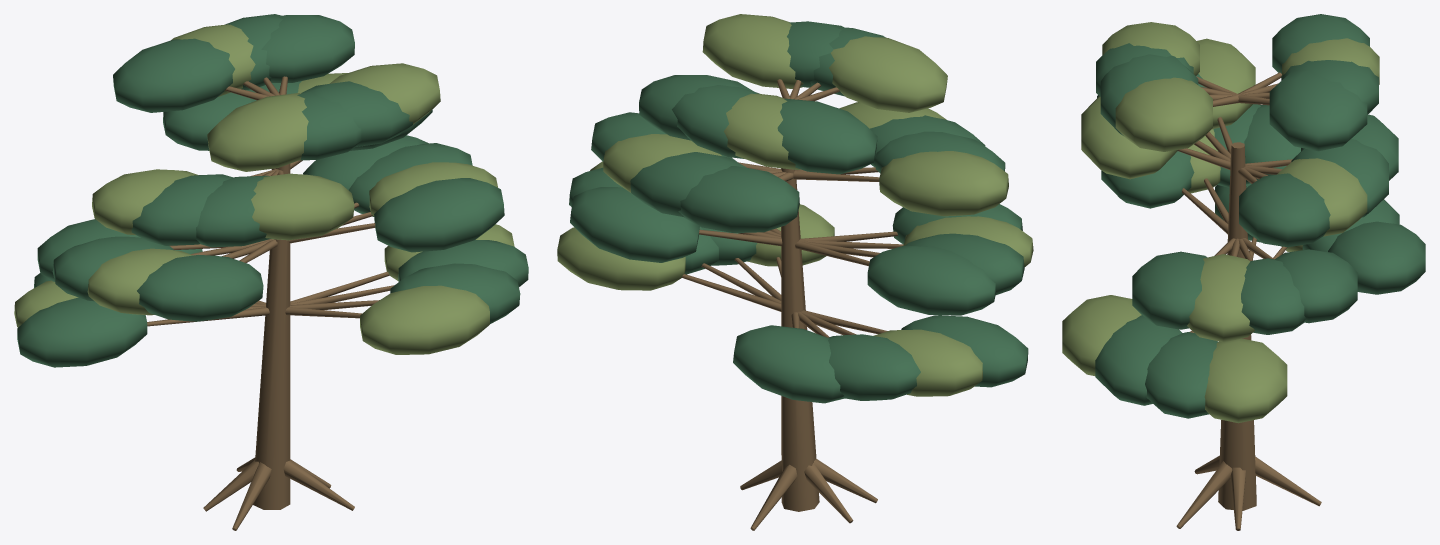
File: tree-almond.glb
3 views of the same model, side by side, from view 1: azimuth 30°, elevation 25°; view 2: azimuth 150°, elevation 25°; view 3: azimuth 270°, elevation 25° (orthographic). The views are drawn at different scales.
Visible parts, largest first — view 1: Trunk, Canopy_29, Canopy_24, Canopy_7, Canopy_4, Canopy_1, Canopy_27, Canopy_6, Canopy_31, Canopy_22, Canopy_14, Canopy_9 (+20 smaller); view 2: Canopy_25, Canopy_30, Canopy_27, Canopy_5, Canopy_28, Canopy_2, Canopy_7, Trunk, Canopy_3, Canopy_20, Canopy_0, Canopy_12 (+26 smaller); view 3: Canopy_31, Canopy_3, Canopy_0, Canopy_26, Canopy_28, Canopy_8, Canopy_29, Canopy_16, Canopy_21, Canopy_5, Trunk, Canopy_13 (+20 smaller).
Boxes of the visible parts, box(x1,y1,x2,y2) form: Trunk: box(253, 164, 290, 509); Canopy_29: box(374, 178, 504, 252); Canopy_24: box(360, 285, 489, 354); Canopy_7: box(113, 38, 234, 112); Canopy_4: box(17, 297, 147, 367); Canopy_1: box(137, 255, 263, 321); Canopy_27: box(207, 93, 308, 171); Canopy_6: box(251, 173, 354, 240); Canopy_31: box(261, 15, 354, 82); Canopy_22: box(131, 174, 233, 245); Canopy_14: box(196, 175, 270, 247); Canopy_9: box(87, 248, 193, 315); Canopy_25: box(867, 245, 995, 315); Canopy_30: box(879, 151, 1008, 216); Canopy_27: box(829, 36, 947, 112); Canopy_5: box(570, 187, 699, 262); Canopy_28: box(733, 325, 844, 403); Canopy_2: box(678, 166, 799, 232); Canopy_7: box(777, 98, 877, 174); Trunk: box(781, 168, 819, 511); Canopy_3: box(702, 14, 803, 88); Canopy_20: box(828, 334, 920, 400); Canopy_0: box(557, 227, 685, 290); Canopy_12: box(873, 329, 982, 396); Canopy_31: box(1269, 69, 1367, 151); Canopy_3: box(1115, 77, 1212, 151); Canopy_0: box(1204, 338, 1287, 423); Canopy_26: box(1239, 173, 1330, 247); Canopy_28: box(1328, 221, 1425, 294); Canopy_8: box(1145, 332, 1217, 418); Canopy_29: box(1132, 251, 1207, 329); Canopy_16: box(1095, 315, 1181, 405); Canopy_21: box(1187, 254, 1254, 342); Canopy_5: box(1274, 249, 1357, 323); Trunk: box(1218, 142, 1256, 510); Canopy_13: box(1241, 258, 1305, 334).
Size of the model in its own units: 5.63 by 4.93 by 3.59.
